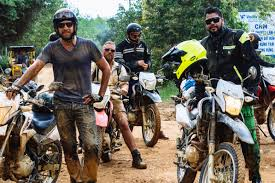helmet: (166, 31, 211, 77), (51, 10, 92, 45), (115, 17, 148, 49)
